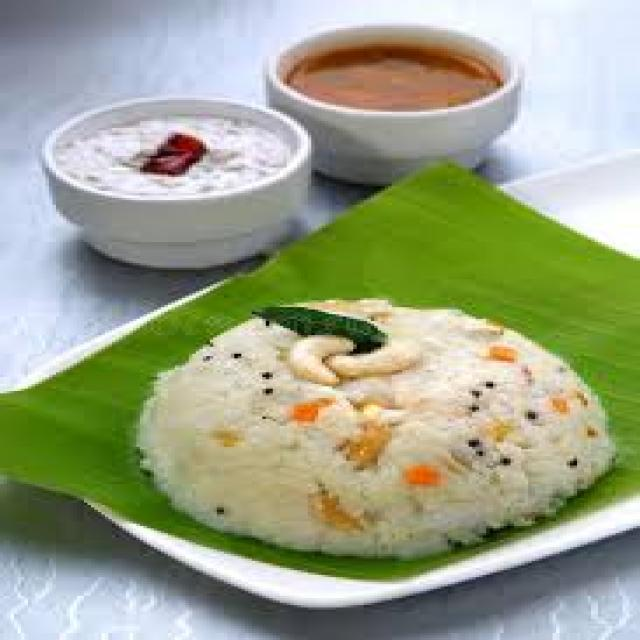Wet Waste: (141, 296, 621, 550)
